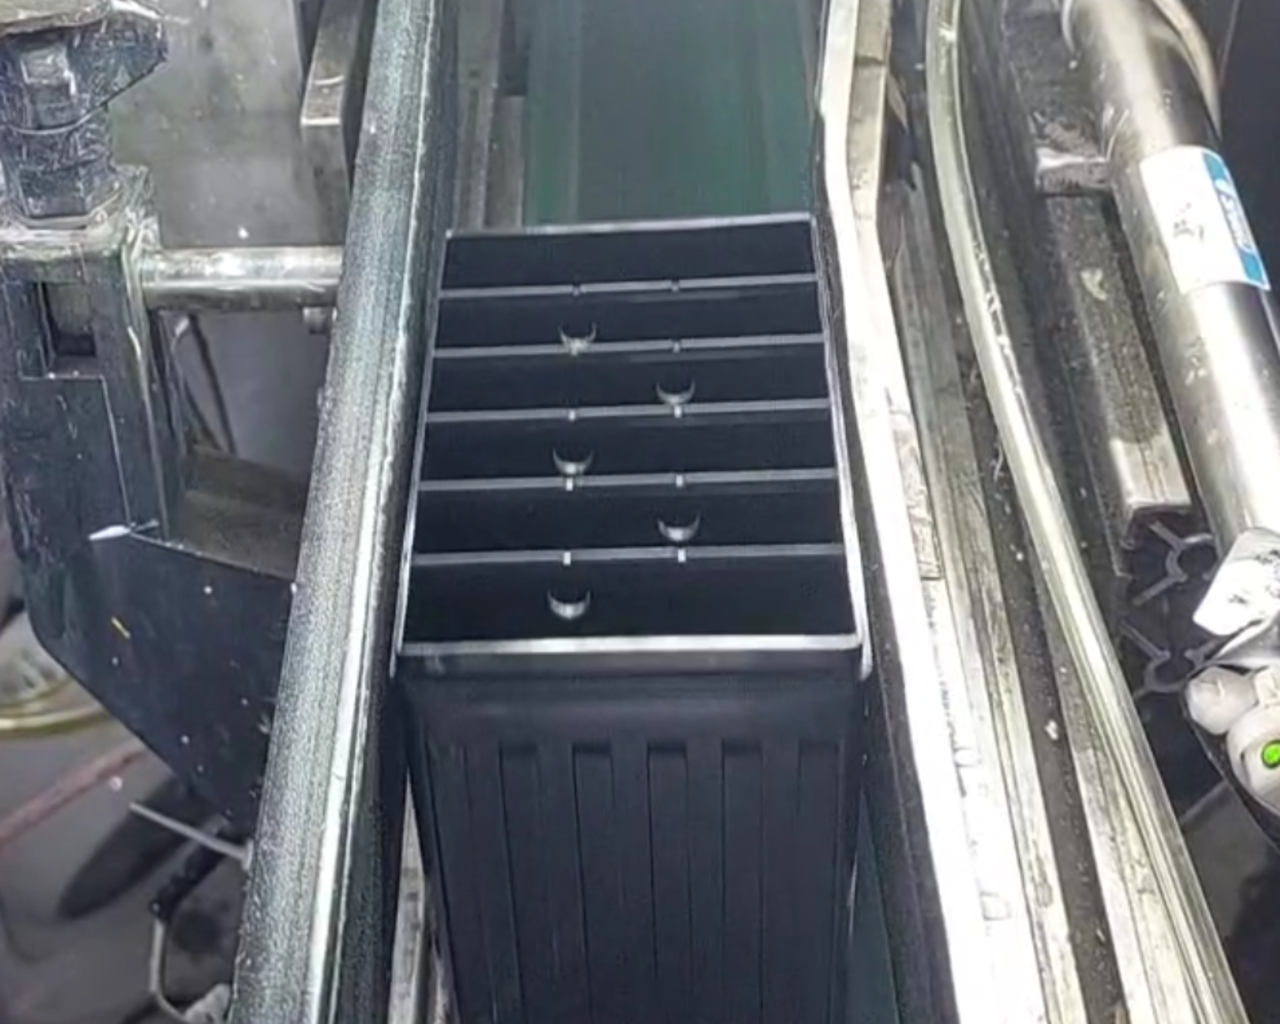box: (373, 197, 894, 705)
round: (636, 486, 713, 550), (528, 566, 603, 626), (643, 355, 709, 413), (538, 424, 605, 478), (552, 307, 605, 355)
